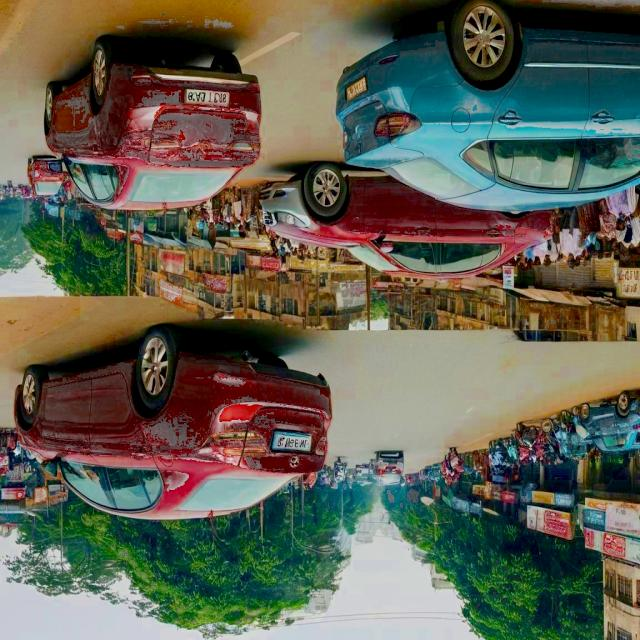blue: (339, 5, 640, 212)
maroon: (0, 324, 350, 520), (47, 30, 266, 207), (266, 169, 562, 280), (28, 159, 62, 194)
